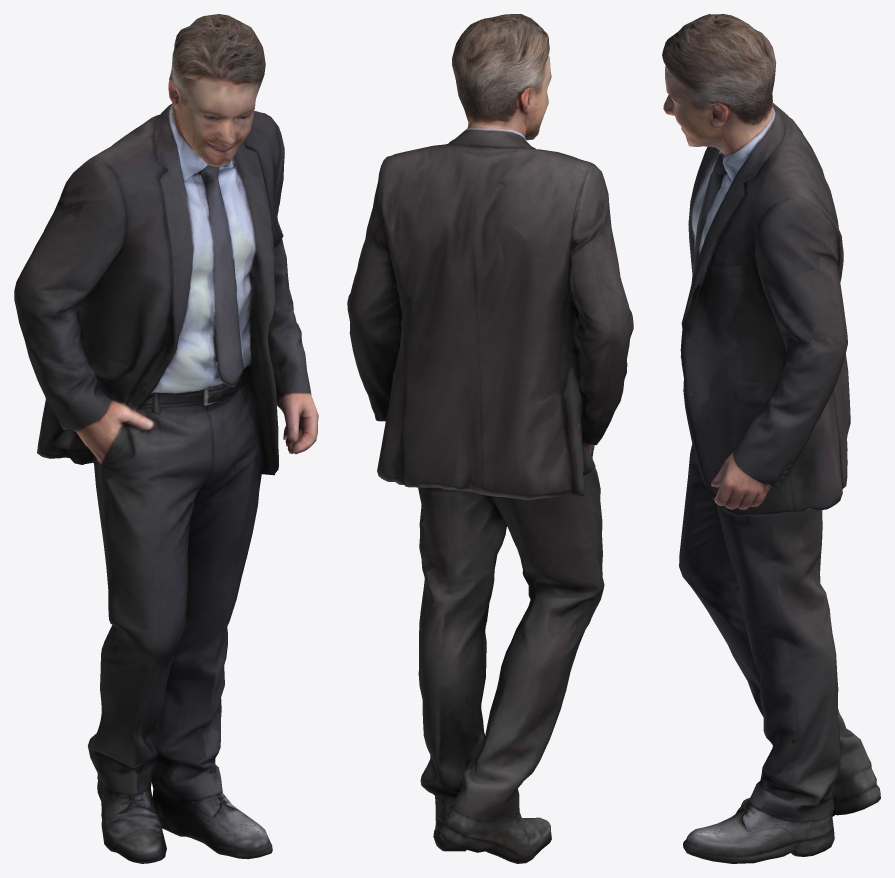
The model's file is person.obj.
3 views of the same model, side by side, from view 1: azimuth 30°, elevation 25°; view 2: azimuth 150°, elevation 25°; view 3: azimuth 270°, elevation 25° (orthographic). The views are drawn at different scales.
Visible parts, largest first — view 1: DenniseLP; view 2: DenniseLP; view 3: DenniseLP.
Part boxes in pixels (box(x1,y1,x2,y2)): DenniseLP: box(14, 14, 318, 863); DenniseLP: box(347, 14, 633, 863); DenniseLP: box(662, 14, 880, 863).
Bounding box in the file's own units: 0.6452 × 1.87 × 0.4491.
